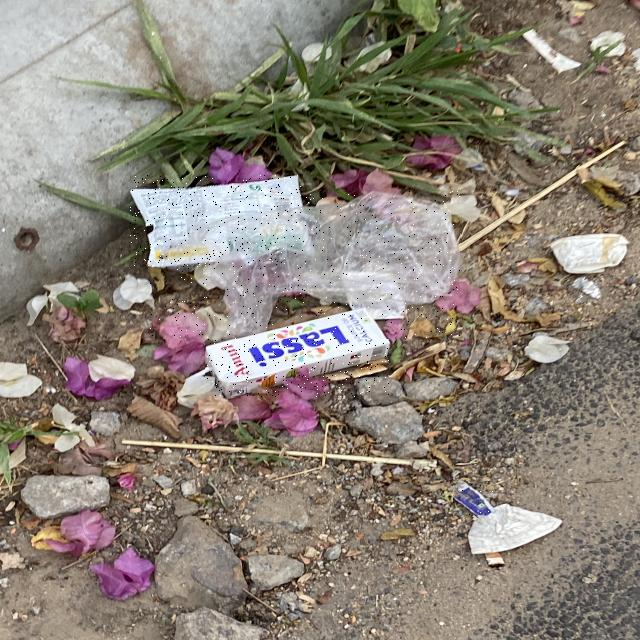paper: (205, 310, 389, 397), (130, 176, 302, 267)
plastic: (150, 191, 461, 339)
wrapper: (454, 481, 493, 517)
